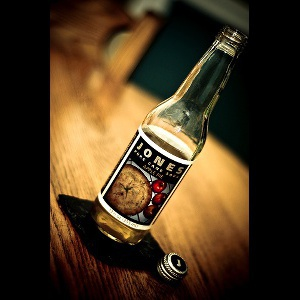emptybottle: (93, 26, 248, 247)
